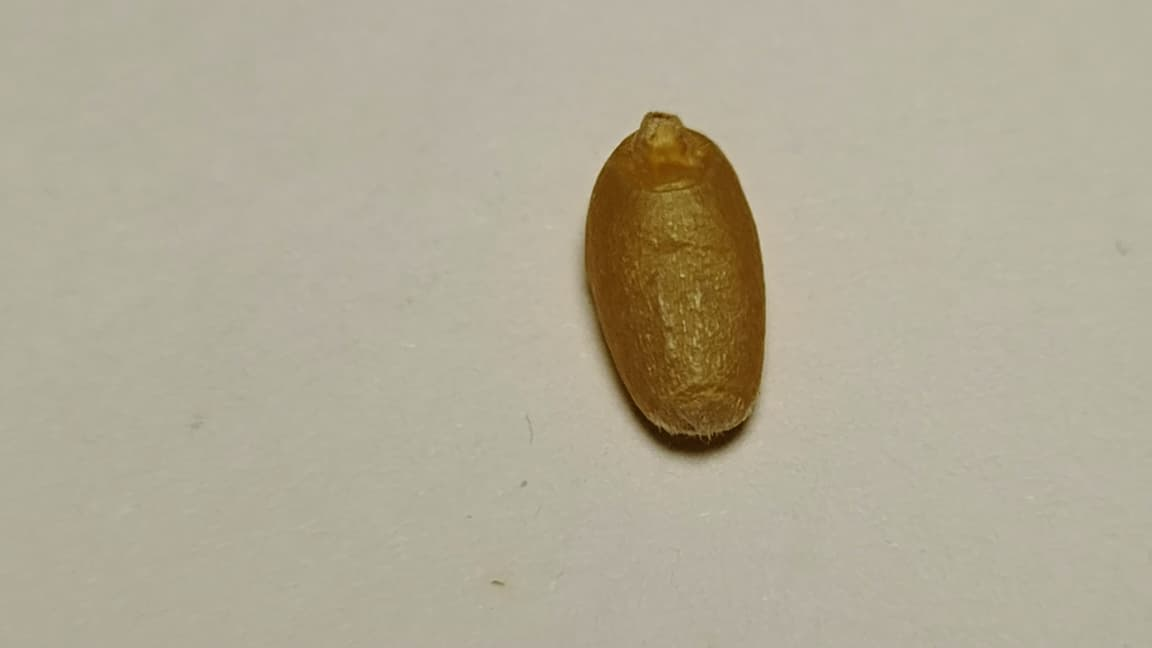healthy: (586, 113, 764, 436)
